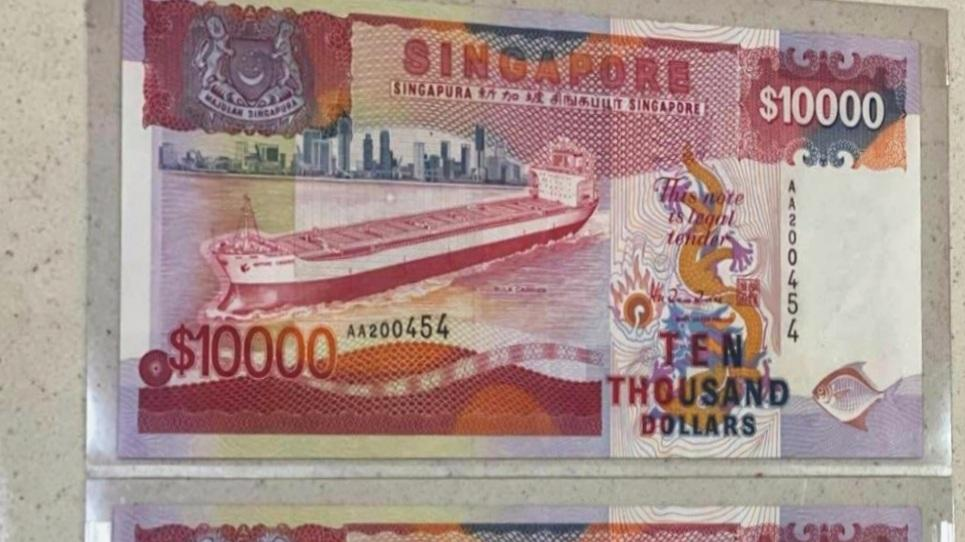10000SingaporeDollar: (123, 0, 916, 457)
